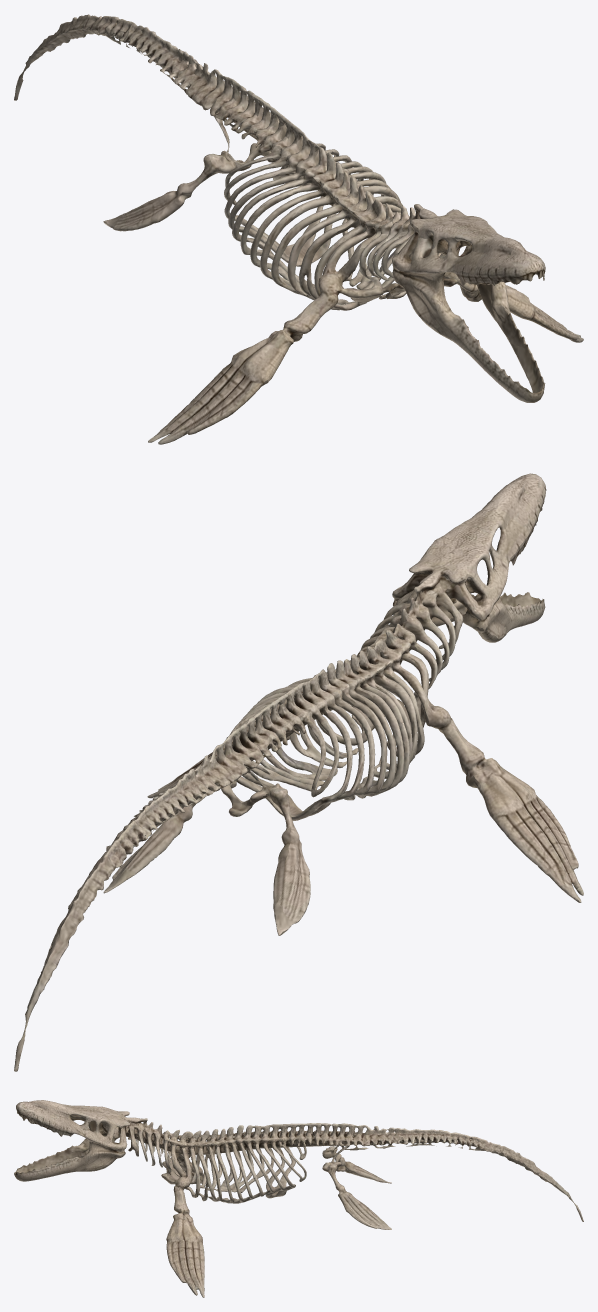
The model's file is predateur.glb.
3 views of the same model, one above another, from view 1: azimuth 30°, elevation 25°; view 2: azimuth 150°, elevation 25°; view 3: azimuth 270°, elevation 25° (orthographic). The views are drawn at different scales.
Visible parts, largest first — view 1: Mesh_0; view 2: Mesh_0; view 3: Mesh_0.
Part boxes in pixels (x1,y1,x2,y2): Mesh_0: (14, 14, 583, 444); Mesh_0: (14, 473, 583, 1071); Mesh_0: (14, 1100, 583, 1297).
Bounding box in the file's own units: 0.9063 × 0.5134 × 1.9.
1 material, 1 textured.
